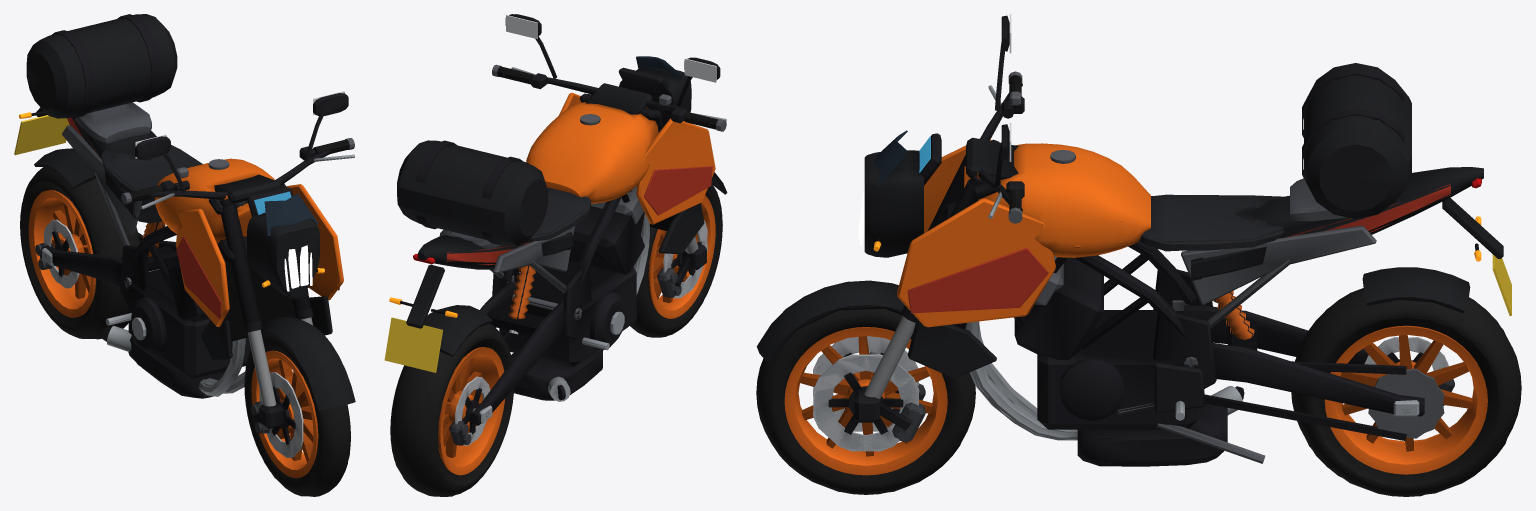
File: bike11_duke990.glb
3 views of the same model, side by side, from view 1: azimuth 30°, elevation 25°; view 2: azimuth 150°, elevation 25°; view 3: azimuth 270°, elevation 25° (orthographic). The views are drawn at different scales.
Parts seen in each view (by area): view 1: body (×2), wheel_rear (×2), wheel_front (×2), handlebar (×2), fork_right, disc_front (×2), disc_rear (×2), headlight, fork_left; view 2: body (×2), wheel_rear (×2), wheel_front (×2), handlebar (×2), fork_right, disc_rear, disc_front; view 3: body (×2), wheel_rear (×2), wheel_front (×2), disc_front (×2), handlebar (×2), fork_left, disc_rear, fork_right.
Boxes of the visible parts, x1,y1,x2,y2 form: body (×2): [14, 14, 355, 411]; wheel_rear (×2): [20, 167, 140, 339]; wheel_front (×2): [244, 334, 350, 496]; handlebar (×2): [121, 91, 354, 209]; fork_right: [219, 195, 283, 433]; disc_front (×2): [259, 372, 303, 457]; disc_rear (×2): [43, 219, 79, 288]; headlight: [284, 245, 312, 291]; fork_left: [281, 185, 313, 325]; body (×2): [384, 56, 727, 445]; wheel_rear (×2): [390, 323, 513, 496]; wheel_front (×2): [630, 181, 722, 337]; handlebar (×2): [492, 14, 726, 131]; fork_right: [646, 106, 706, 297]; disc_rear: [455, 376, 490, 445]; disc_front: [663, 220, 707, 298]; body (×2): [756, 63, 1511, 466]; wheel_rear (×2): [1291, 288, 1521, 496]; wheel_front (×2): [756, 308, 975, 494]; disc_front (×2): [813, 336, 919, 451]; handlebar (×2): [978, 14, 1024, 223]; fork_left: [854, 172, 984, 441]; disc_rear: [1364, 337, 1448, 370]; fork_right: [869, 154, 965, 412].
Size of the model in its own units: 0.9 by 1.25 by 2.09.
